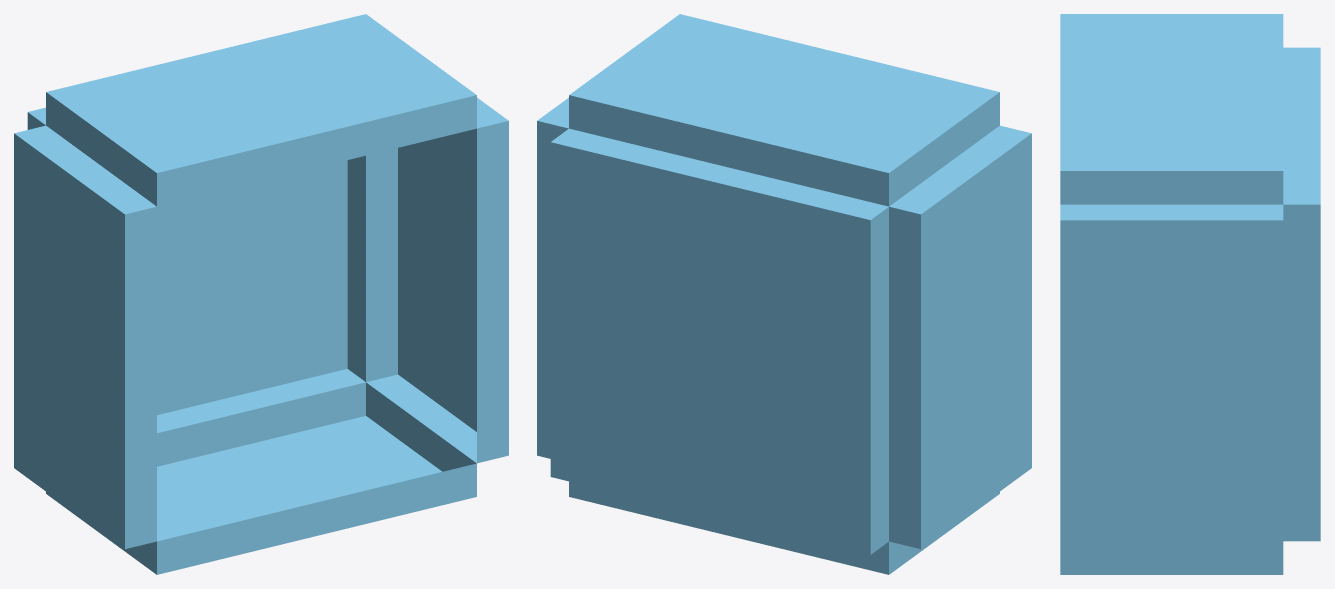
Rendered from GlassButton1.fbx.
3 views of the same model, side by side, from view 1: azimuth 30°, elevation 25°; view 2: azimuth 150°, elevation 25°; view 3: azimuth 270°, elevation 25° (orthographic).
Visible parts, largest first — view 1: Cube.034; view 2: Cube.034; view 3: Cube.034.
Part boxes in pixels (x1,y1,x2,y2): Cube.034: (14, 14, 508, 574); Cube.034: (537, 14, 1031, 574); Cube.034: (1060, 14, 1320, 574).
Bounding box in the file's own units: 1200 × 1200 × 700.
